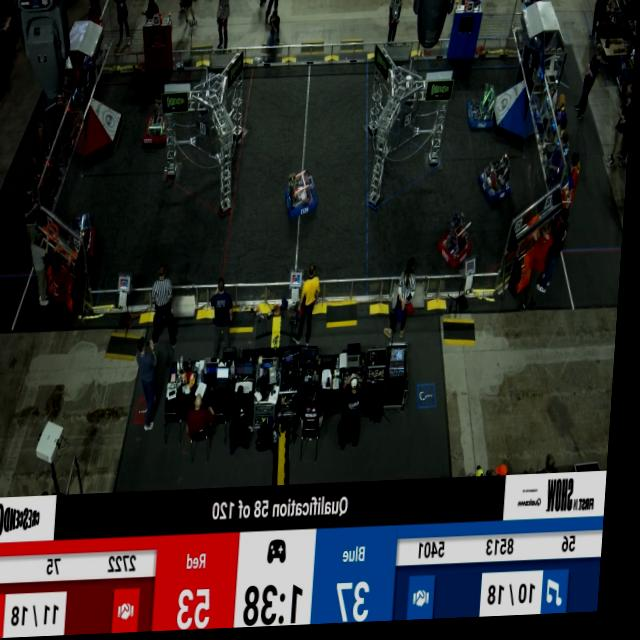Robot: (438, 213, 477, 275), (480, 156, 517, 210), (286, 170, 322, 223), (467, 87, 500, 138), (142, 98, 172, 153)
